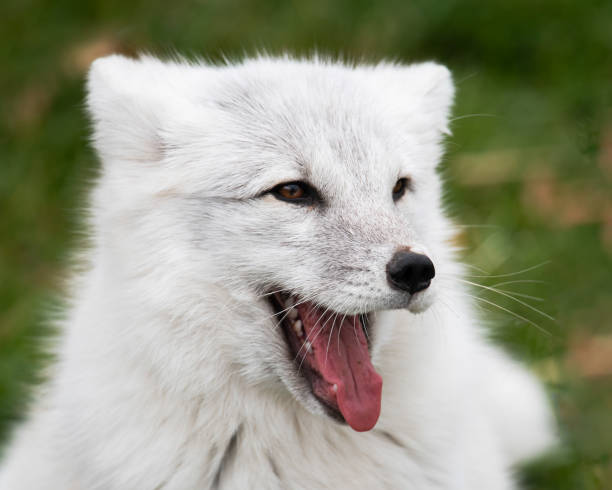arcticfox: (211, 64, 435, 441)
